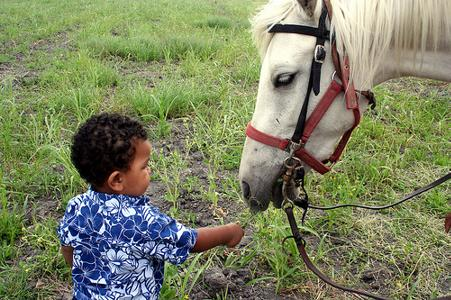person: (61, 114, 247, 300)
